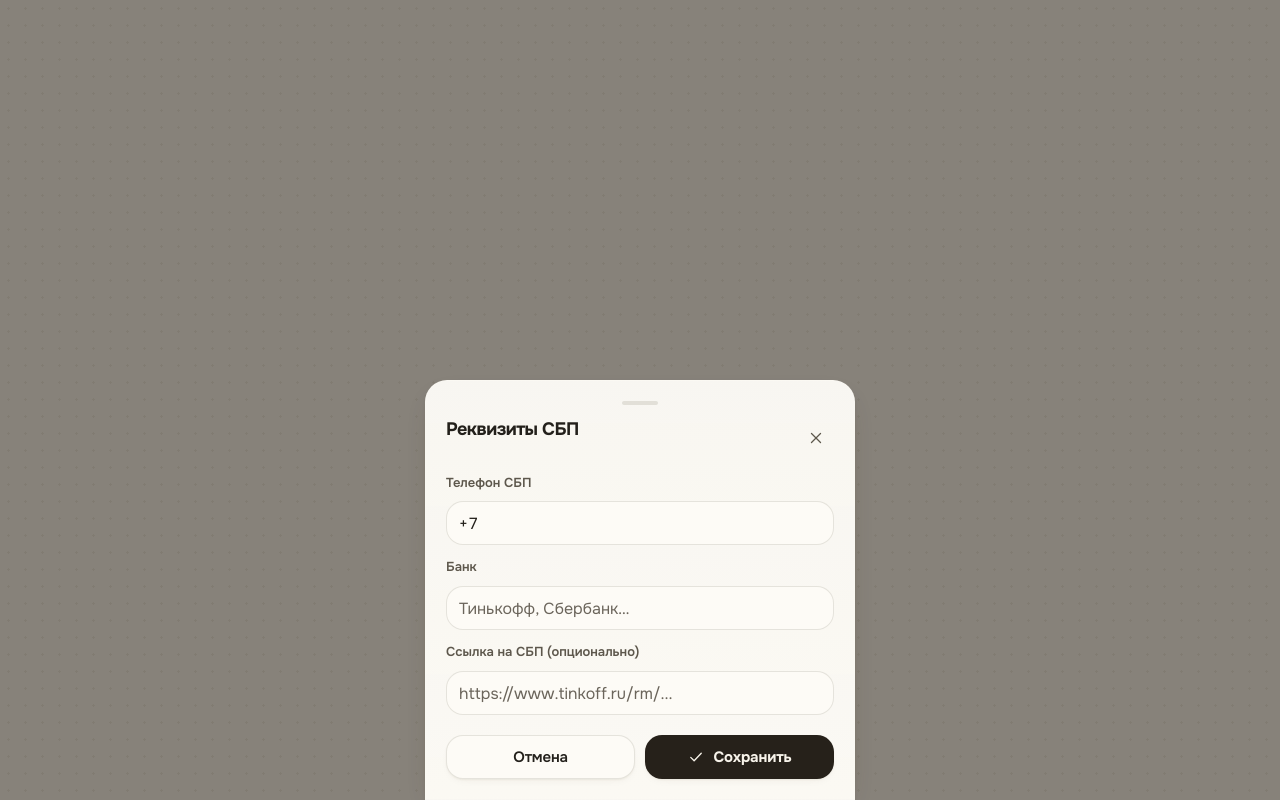
Test case: EditPaymentInfoSheet › форматирует номер по мере набора
Replace the text in the field labelled "Телефон СБП" with "+7 926" at (640, 523), box [446,501,834,545]
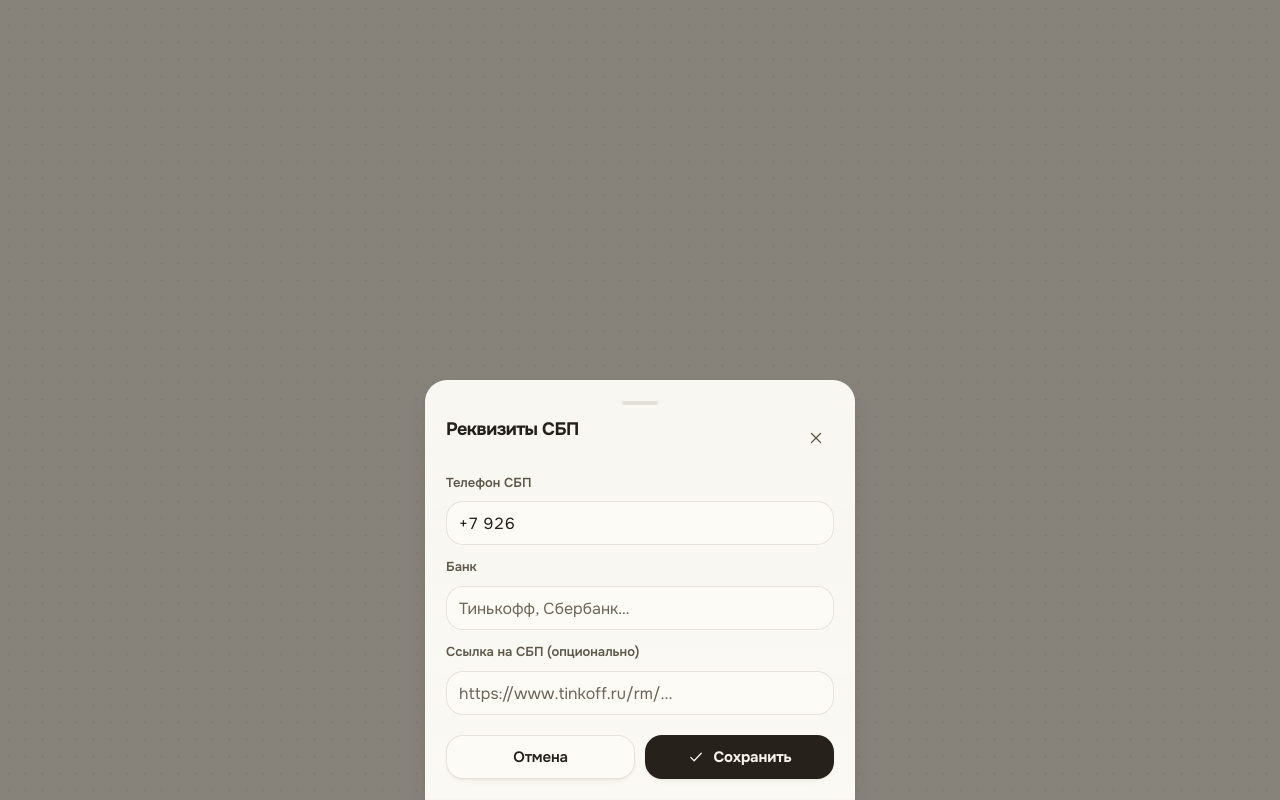
Replace the text in the field labelled "Телефон СБП" with "+7 9261234567" at (640, 523), box [446,501,834,545]
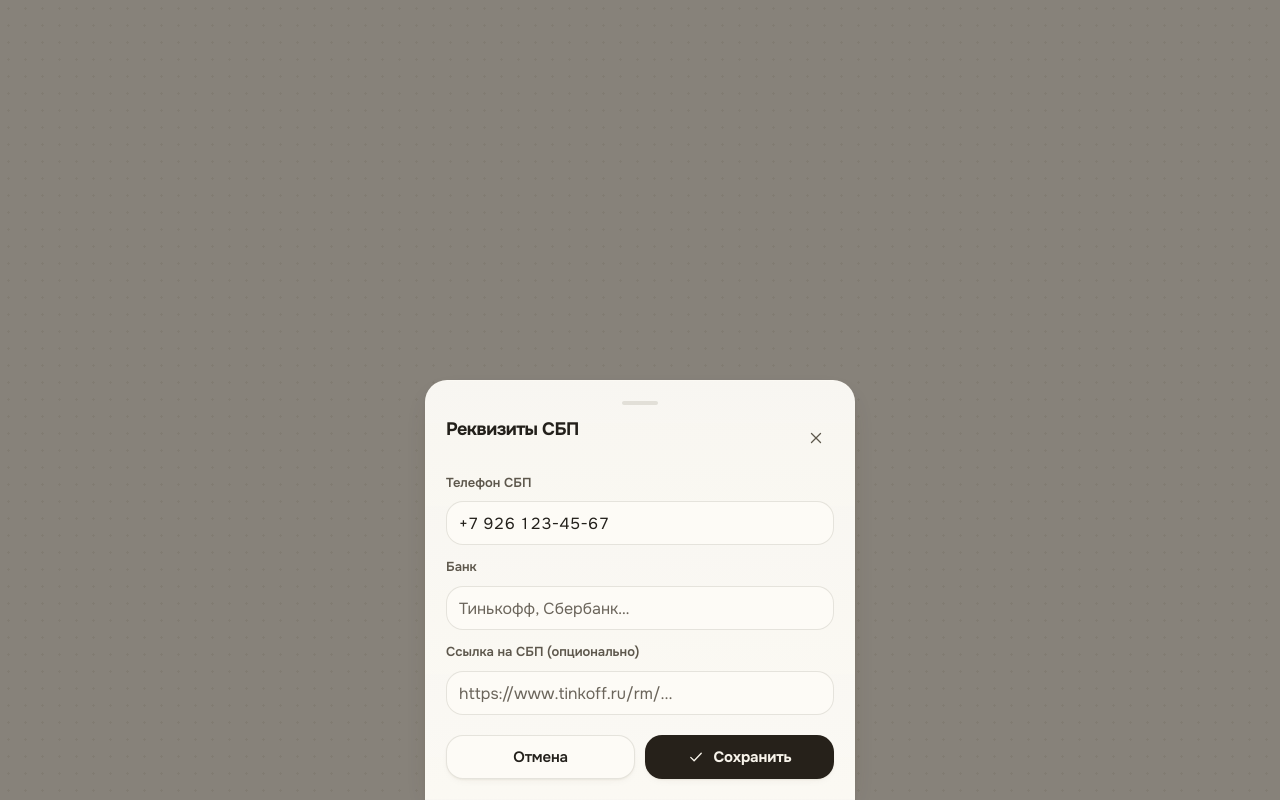
Expected: the field labelled "Телефон СБП" holds "+7 926 123-45-67", [446,501,834,545]
